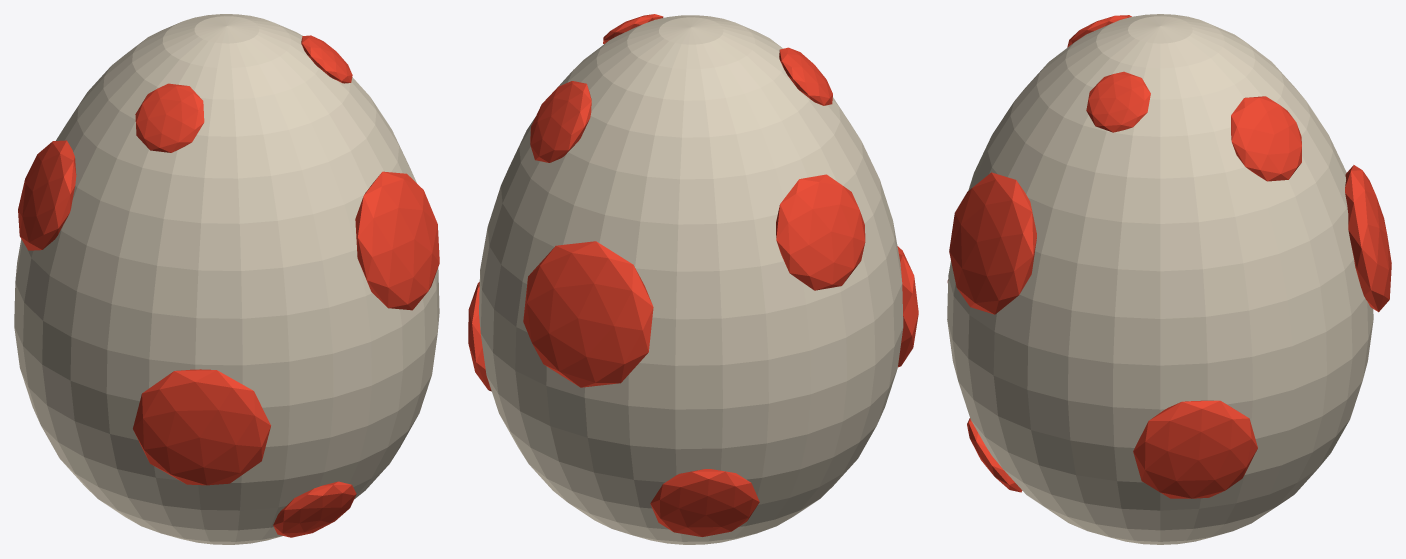
File: GardenEgg.fbx
3 renders of one model, left to right at view 1: azimuth 30°, elevation 25°; view 2: azimuth 150°, elevation 25°; view 3: azimuth 270°, elevation 25°, orthographic.
Visible parts, largest first — view 1: Egg_FFF3DC, Egg_E8452E; view 2: Egg_FFF3DC, Egg_E8452E; view 3: Egg_FFF3DC, Egg_E8452E.
Part boxes in pixels (x1,y1,x2,y2): Egg_FFF3DC: (14, 14, 439, 544); Egg_E8452E: (18, 35, 439, 537); Egg_FFF3DC: (479, 15, 903, 544); Egg_E8452E: (468, 14, 918, 536); Egg_FFF3DC: (947, 14, 1373, 544); Egg_E8452E: (947, 15, 1391, 498).
Bounding box in the file's own units: 2.08 × 2.6 × 2.1.
